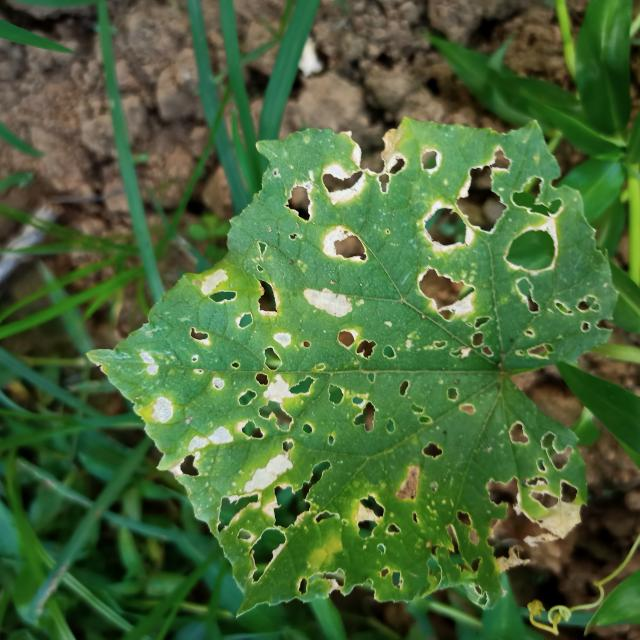disease_cucumber: (181, 137, 589, 566)
